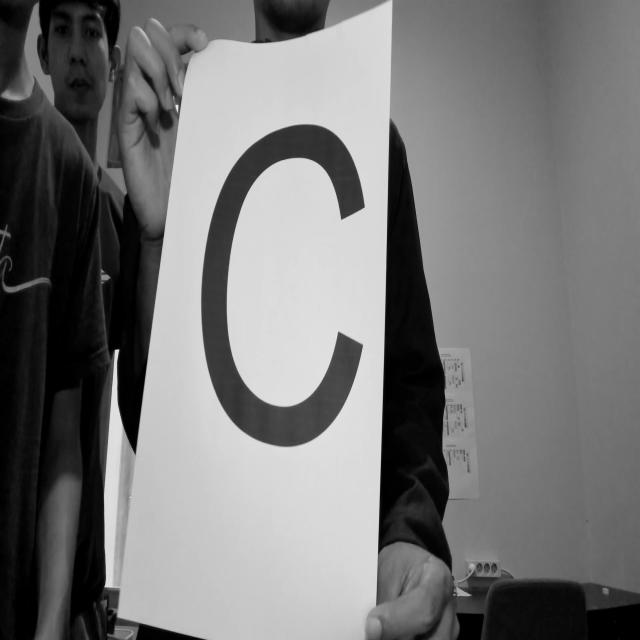c: (193, 106, 376, 468)
